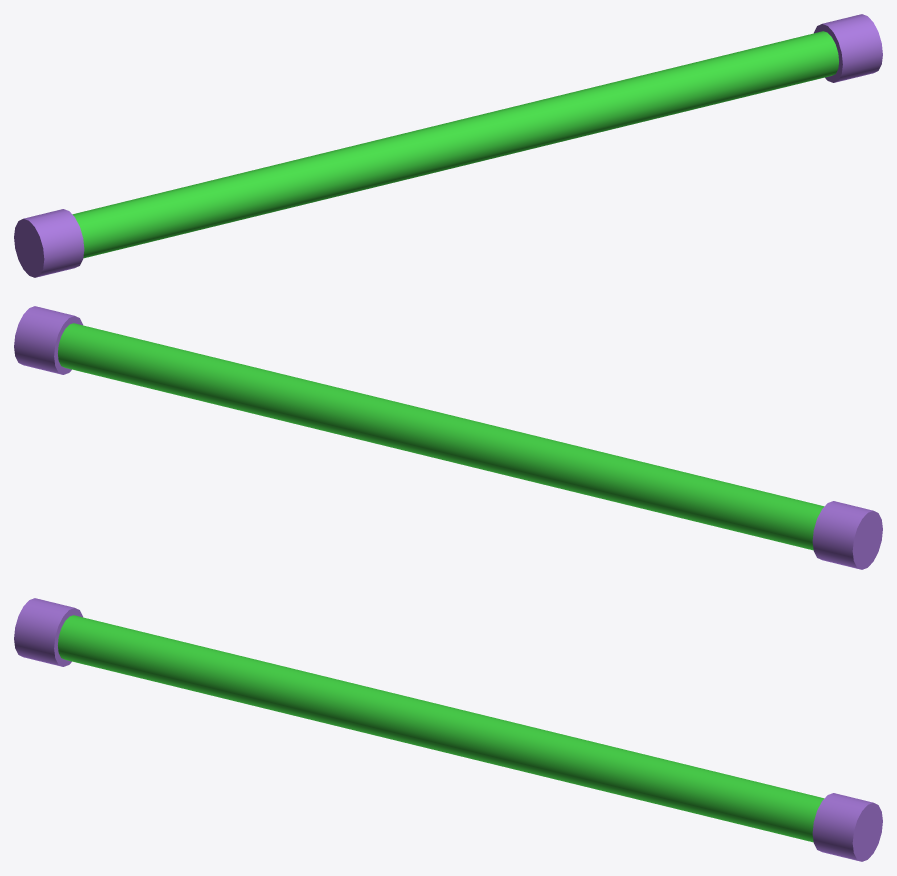
File: RollDownBar.fbx
The picture shows the model from 3 angles, top to bottom: view 1: azimuth 30°, elevation 25°; view 2: azimuth 150°, elevation 25°; view 3: azimuth 330°, elevation 25°; orthographic projection.
Visible parts, largest first — view 1: RollDownBar; view 2: RollDownBar; view 3: RollDownBar.
Boxes of the visible parts, left/top/right/bottom form: RollDownBar: left=14, top=14, right=882, bottom=277; RollDownBar: left=14, top=306, right=882, bottom=569; RollDownBar: left=14, top=598, right=882, bottom=861.
Size of the model in its own units: 7.69 by 0.4814 by 0.4814.
